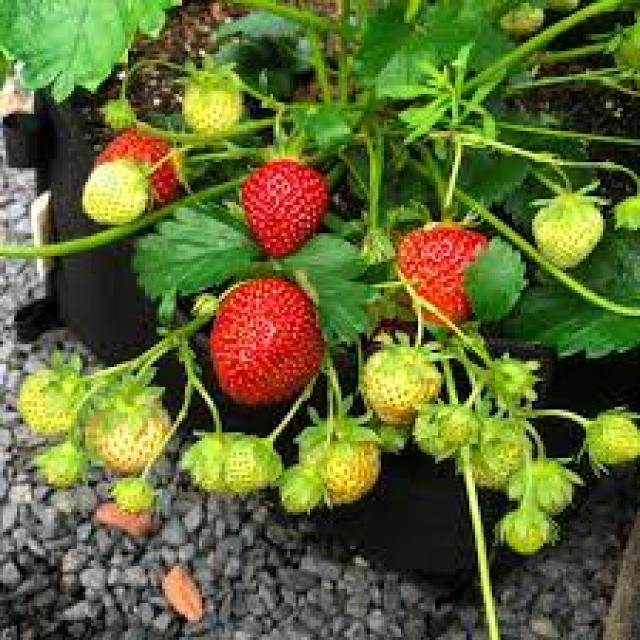strawberry: (204, 276, 331, 409), (244, 145, 330, 262)
